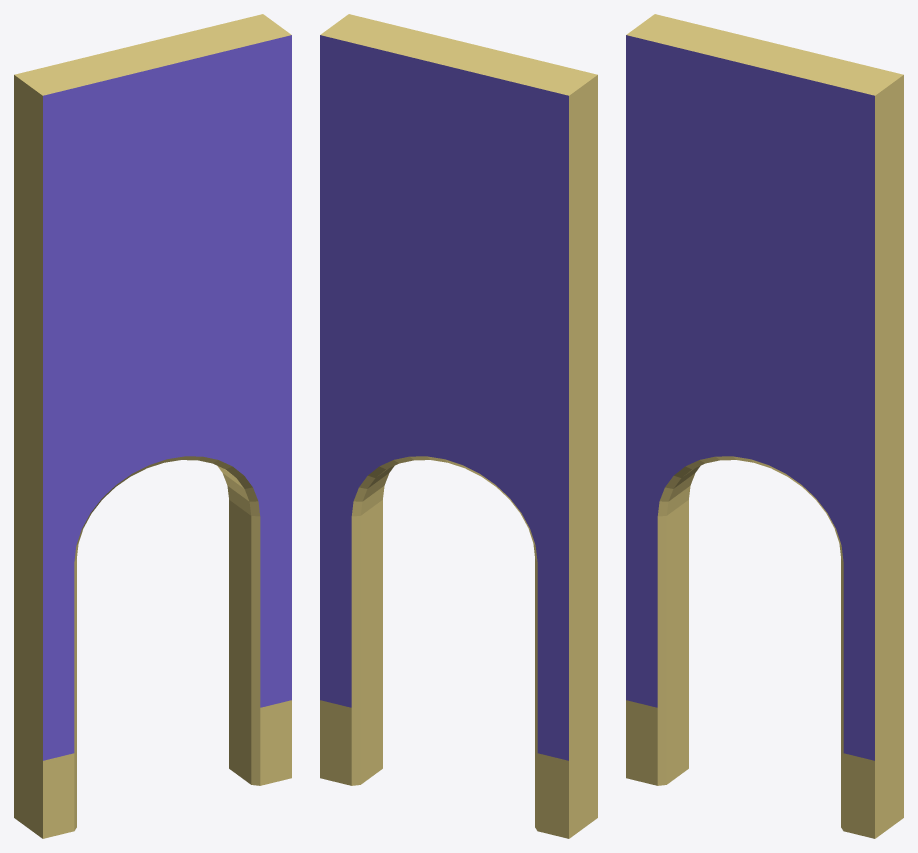
Rendered from Wall_WoodDoor.fbx.
The picture shows the model from 3 angles, left to right: view 1: azimuth 30°, elevation 25°; view 2: azimuth 150°, elevation 25°; view 3: azimuth 330°, elevation 25°; orthographic projection.
Visible parts, largest first — view 1: Wall_WoodDoor_Base; view 2: Wall_WoodDoor_Base; view 3: Wall_WoodDoor_Base.
Part boxes in pixels (x1,y1,x2,y2): Wall_WoodDoor_Base: (14, 14, 291, 838); Wall_WoodDoor_Base: (320, 14, 597, 838); Wall_WoodDoor_Base: (626, 14, 903, 838).
Bounding box in the file's own units: 1000 × 2852 × 200.
